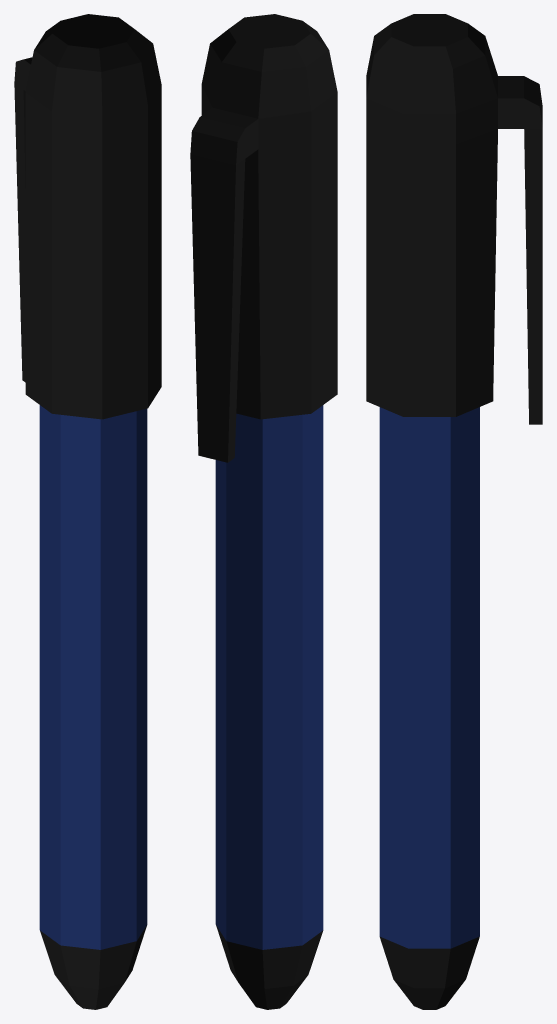
File: Pen.fbx
3 views of the same model, side by side, from view 1: azimuth 30°, elevation 25°; view 2: azimuth 150°, elevation 25°; view 3: azimuth 270°, elevation 25° (orthographic).
Parts seen in each view (by area): view 1: Node 0; view 2: Node 0; view 3: Node 0.
Part boxes in pixels (x1,y1,x2,y2): Node 0: (14,14,161,1009); Node 0: (190,14,337,1009); Node 0: (366,14,542,1009).
Bounding box in the file's own units: 0.0414 × 0.2518 × 0.0298.
